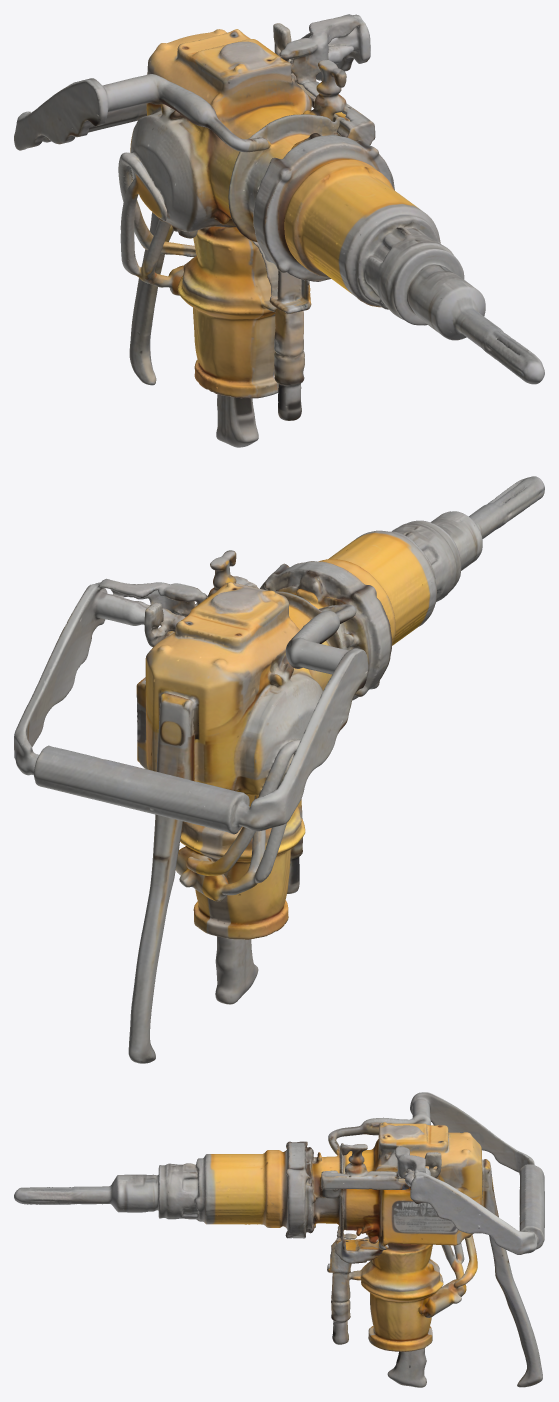
Rendered from Meshy_AI_Drill_0314195110_texture.fbx.
3 renders of one model, top to bottom at view 1: azimuth 30°, elevation 25°; view 2: azimuth 150°, elevation 25°; view 3: azimuth 270°, elevation 25°, orthographic. The views are drawn at different scales.
Parts seen in each view (by area): view 1: Mesh_0; view 2: Mesh_0; view 3: Mesh_0.
Boxes of the visible parts, left/top/right/bottom form: Mesh_0: left=14, top=14, right=544, bottom=447; Mesh_0: left=14, top=476, right=544, bottom=1063; Mesh_0: left=14, top=1092, right=544, bottom=1387.
Bounding box in the file's own units: 77 × 107 × 200.
1 material, 1 textured.
